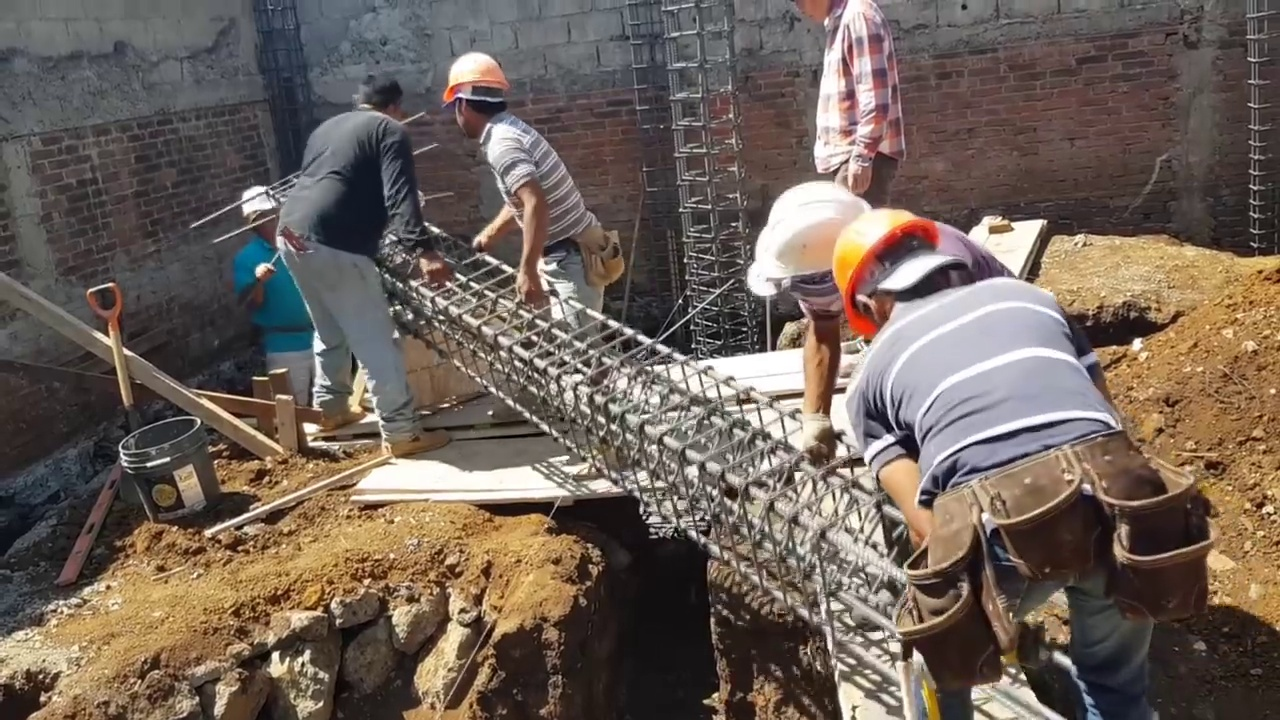helmet: (832, 209, 944, 340), (753, 181, 865, 281), (441, 50, 509, 112), (238, 186, 280, 228)
helmet-off: (351, 74, 406, 115)
helmet-on: (831, 203, 960, 340), (746, 178, 864, 326), (440, 52, 510, 142), (237, 185, 282, 244)
person: (830, 202, 1161, 669), (746, 180, 1018, 474), (276, 74, 450, 456), (441, 52, 622, 335), (790, 0, 906, 196), (231, 186, 315, 410)
